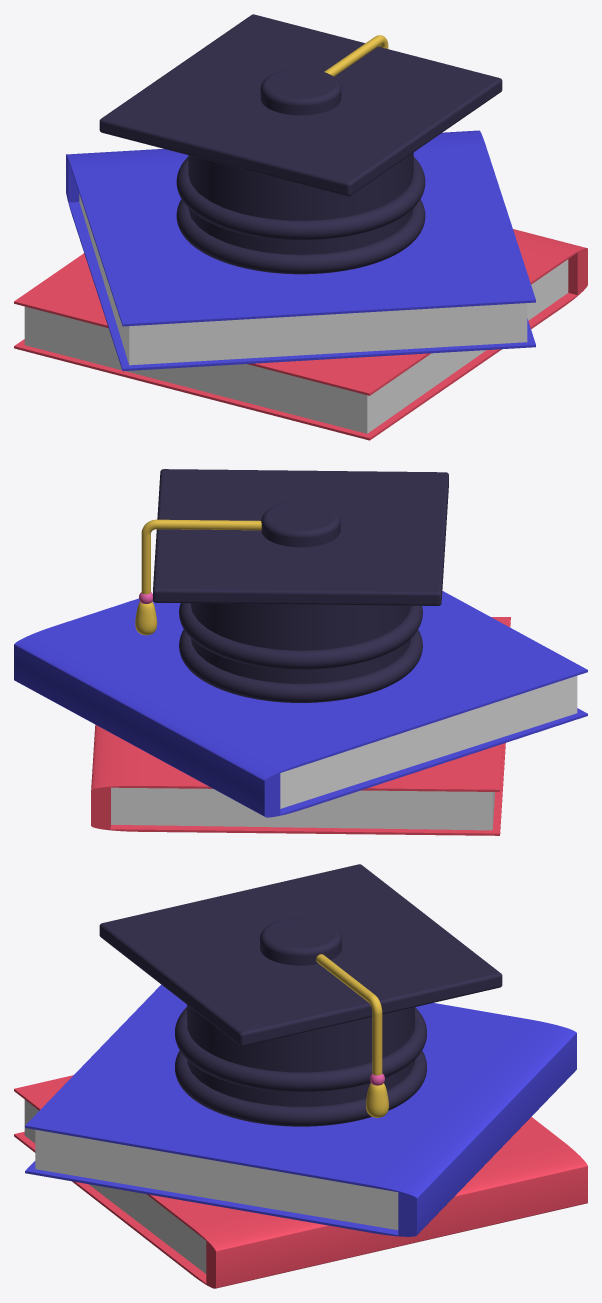
File: graduation_hat.glb
The picture shows the model from 3 angles, top to bottom: view 1: azimuth 30°, elevation 25°; view 2: azimuth 150°, elevation 25°; view 3: azimuth 270°, elevation 25°; orthographic projection. The views are drawn at different scales.
Parts seen in each view (by area): view 1: Cube.001, Torus, Cube, Sphere; view 2: Cube.001, Torus, Cube, Sphere; view 3: Cube.001, Torus, Cube, Sphere.
Boxes of the visible parts, box(x1,y1,x2,y2) form: Cube.001: box(66, 130, 535, 371); Torus: box(99, 14, 502, 274); Cube: box(14, 229, 587, 440); Sphere: box(324, 35, 388, 76); Cube.001: box(14, 591, 587, 817); Torus: box(153, 469, 448, 702); Cube: box(91, 617, 510, 835); Sphere: box(135, 519, 261, 635); Cube.001: box(25, 984, 576, 1236); Torus: box(99, 864, 502, 1126); Cube: box(14, 1075, 587, 1288); Sphere: box(316, 954, 388, 1117).
Bounding box in the file's own units: 2.71 × 1.25 × 2.71.
